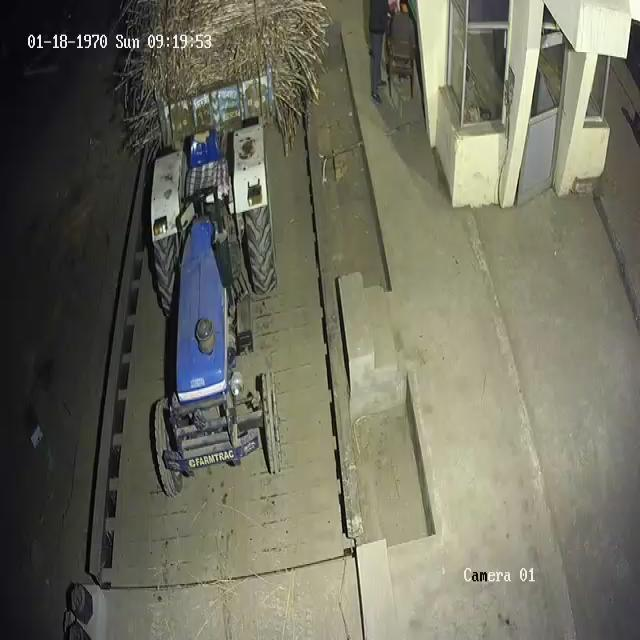Tratores - v5 YOLO V8L 2024-11-13: (146, 120, 293, 498)
